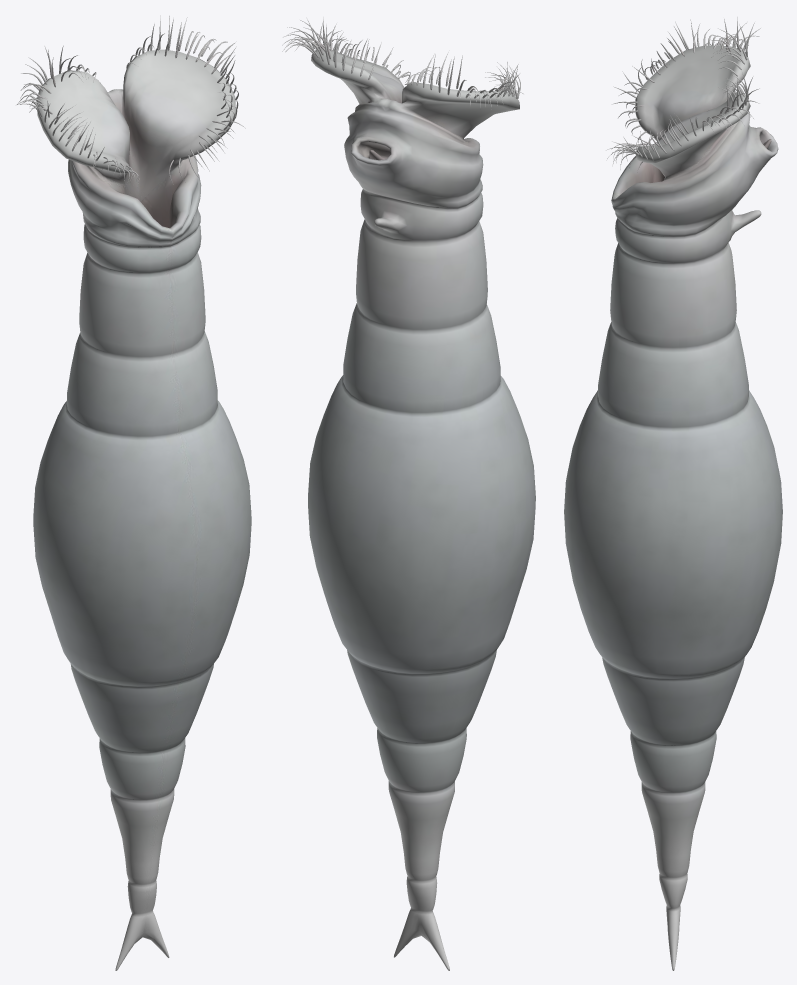
Rendered from bio3d2-rotifer.glb.
3 views of the same model, side by side, from view 1: azimuth 30°, elevation 25°; view 2: azimuth 150°, elevation 25°; view 3: azimuth 270°, elevation 25° (orthographic). The views are drawn at different scales.
Parts seen in each view (by area): view 1: Object_5; view 2: Object_5; view 3: Object_5.
Part boxes in pixels (x1=…): Object_5: x1=16, y1=15, x2=251, y2=970; Object_5: x1=282, y1=17, x2=535, y2=970; Object_5: x1=564, y1=17, x2=782, y2=970.
Bounding box in the file's own units: 12.67 × 49.82 × 10.83.
Materials: 1 (1 with a texture image).
